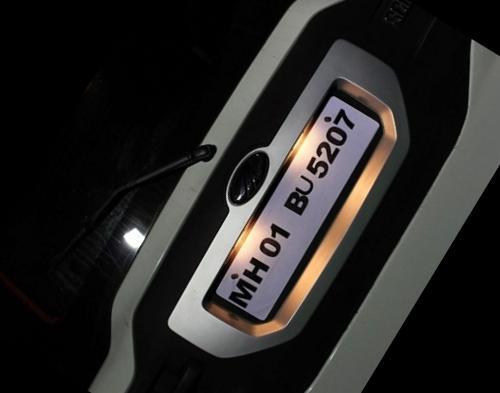plate: (202, 71, 394, 327)
